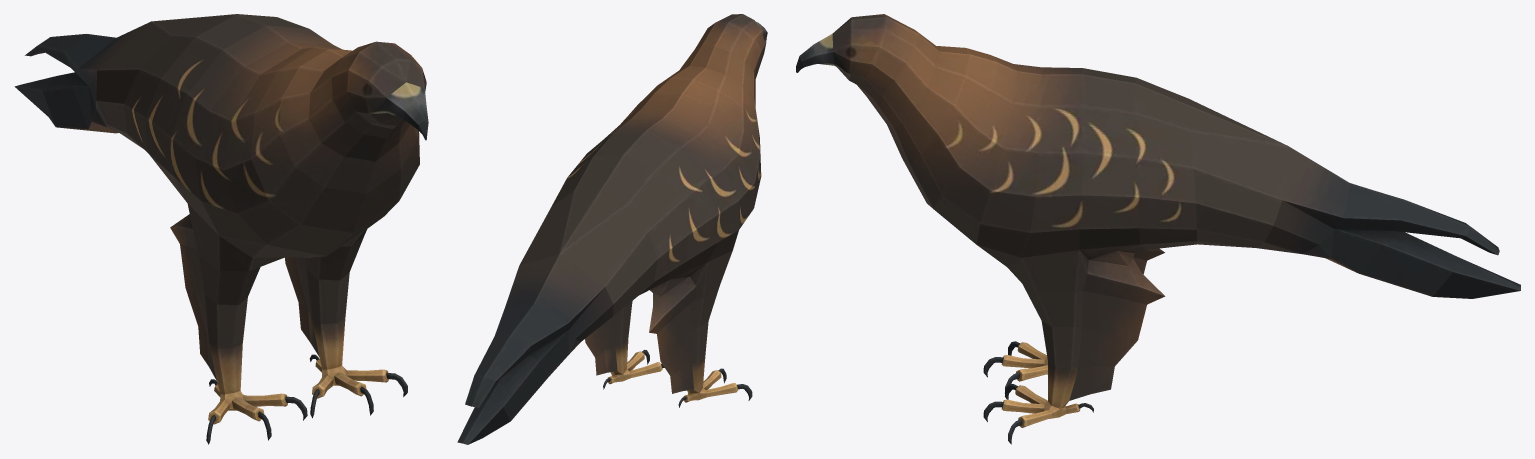
File: golden-eagle-perched.phone.glb
3 renders of one model, left to right at view 1: azimuth 30°, elevation 25°; view 2: azimuth 150°, elevation 25°; view 3: azimuth 270°, elevation 25°, orthographic. The views are drawn at different scales.
Parts seen in each view (by area): view 1: GoldenEagle_mesh2; view 2: GoldenEagle_mesh2; view 3: GoldenEagle_mesh2.
Boxes of the visible parts, x1,y1,x2,y2 form: GoldenEagle_mesh2: (14,14,428,444); GoldenEagle_mesh2: (457,14,767,444); GoldenEagle_mesh2: (796,14,1520,444).
Bounding box in the file's own units: 5 × 10.25 × 17.47.
Materials: 1 (1 with a texture image).
